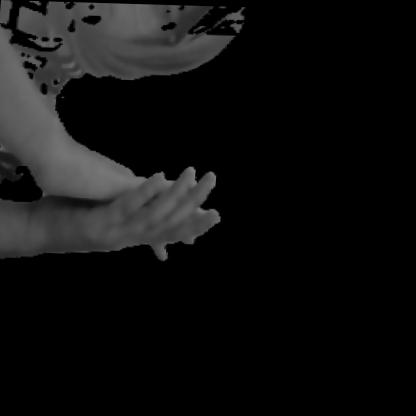clap: (0, 122, 238, 286)
